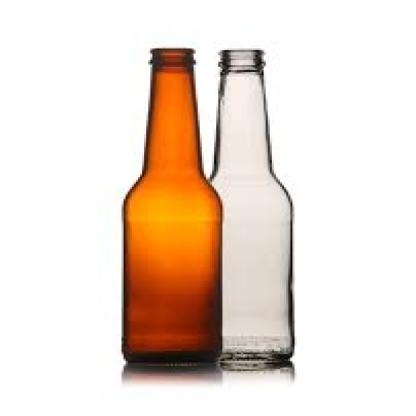trash: (122, 48, 221, 363), (211, 50, 293, 367)
